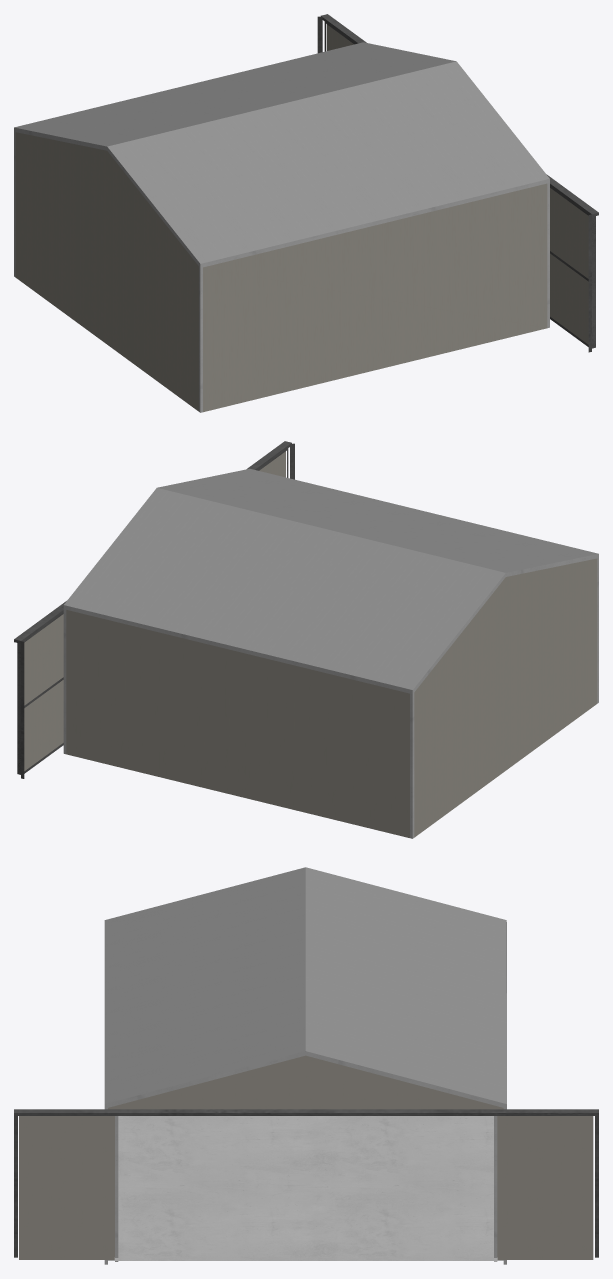
File: gen_open_hangar08_slide_door-12x13x5-cbj_LOD03.gltf
The picture shows the model from 3 angles, top to bottom: view 1: azimuth 30°, elevation 25°; view 2: azimuth 150°, elevation 25°; view 3: azimuth 270°, elevation 25°; orthographic projection. The views are drawn at different scales.
Parts seen in each view (by area): view 1: Cube.008; view 2: Cube.008; view 3: Cube.008.
Boxes of the visible parts, x1=… form: Cube.008: x1=14, y1=14, x2=598, y2=412; Cube.008: x1=14, y1=441, x2=598, y2=838; Cube.008: x1=14, y1=867, x2=598, y2=1264.
Size of the model in its own units: 13.47 by 7.15 by 17.75.
